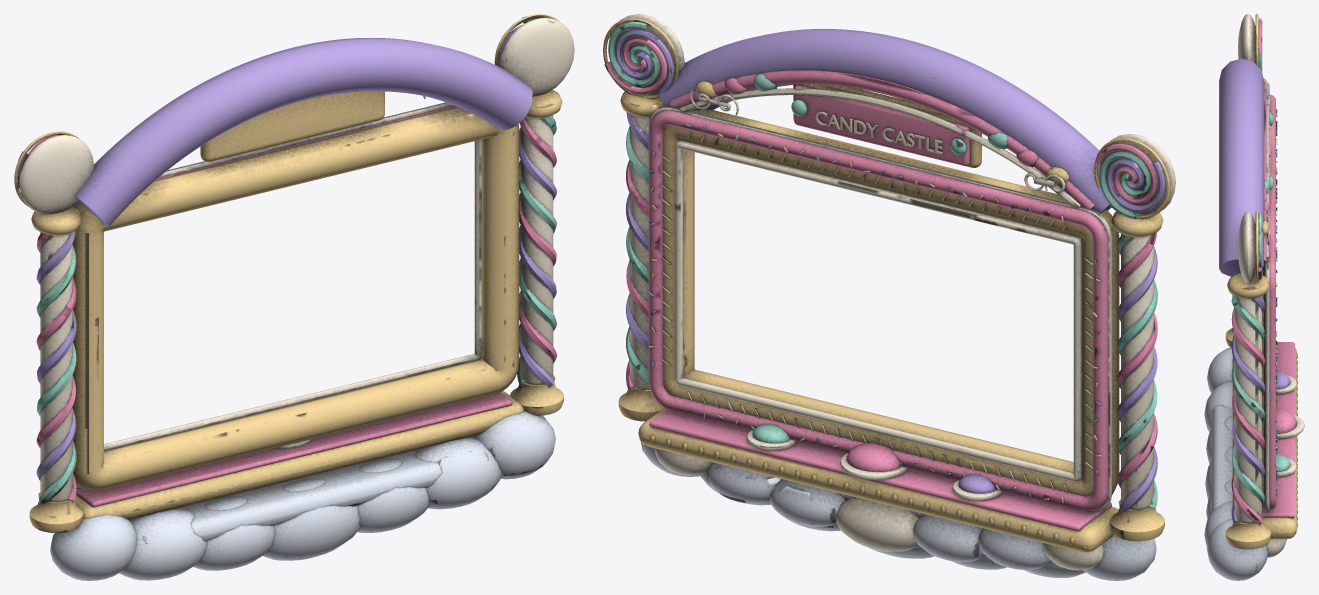
3 views of the same model, side by side, from view 1: azimuth 30°, elevation 25°; view 2: azimuth 150°, elevation 25°; view 3: azimuth 270°, elevation 25° (orthographic). The views are drawn at different scales.
Parts seen in each view (by area): view 1: Vanilla_wafer_sugar, Cotton_candy_porcelain, Lavender_jelly, Whipped_ivory_sugar, Strawberry_jelly, Mint_jelly; view 2: Strawberry_jelly, Vanilla_wafer_sugar, Whipped_ivory_sugar, Lavender_jelly, Cotton_candy_porcelain, Mint_jelly; view 3: Lavender_jelly, Whipped_ivory_sugar, Strawberry_jelly, Cotton_candy_porcelain, Vanilla_wafer_sugar, Mint_jelly.
Part boxes in pixels (x1=…): Vanilla_wafer_sugar: x1=14, y1=14, x2=563, y2=532; Cotton_candy_porcelain: x1=50, y1=411, x2=555, y2=580; Lavender_jelly: x1=18, y1=25, x2=556, y2=480; Whipped_ivory_sugar: x1=19, y1=17, x2=574, y2=501; Strawberry_jelly: x1=26, y1=105, x2=556, y2=507; Mint_jelly: x1=36, y1=16, x2=556, y2=504; Strawberry_jelly: x1=604, y1=37, x2=1158, y2=531; Vanilla_wafer_sugar: x1=603, y1=18, x2=1169, y2=552; Whipped_ivory_sugar: x1=608, y1=14, x2=1175, y2=570; Lavender_jelly: x1=615, y1=29, x2=1165, y2=512; Cotton_candy_porcelain: x1=641, y1=442, x2=1156, y2=580; Mint_jelly: x1=608, y1=22, x2=1157, y2=509; Lavender_jelly: x1=1219, y1=18, x2=1290, y2=522; Whipped_ivory_sugar: x1=1234, y1=14, x2=1304, y2=557; Strawberry_jelly: x1=1231, y1=20, x2=1296, y2=525; Cotton_candy_porcelain: x1=1204, y1=347, x2=1267, y2=580; Vanilla_wafer_sugar: x1=1225, y1=14, x2=1297, y2=549; Mint_jelly: x1=1231, y1=54, x2=1290, y2=505.
Bounding box in the file's own units: 11.84 × 10.3 × 2.21.
6 materials, 6 textured.
